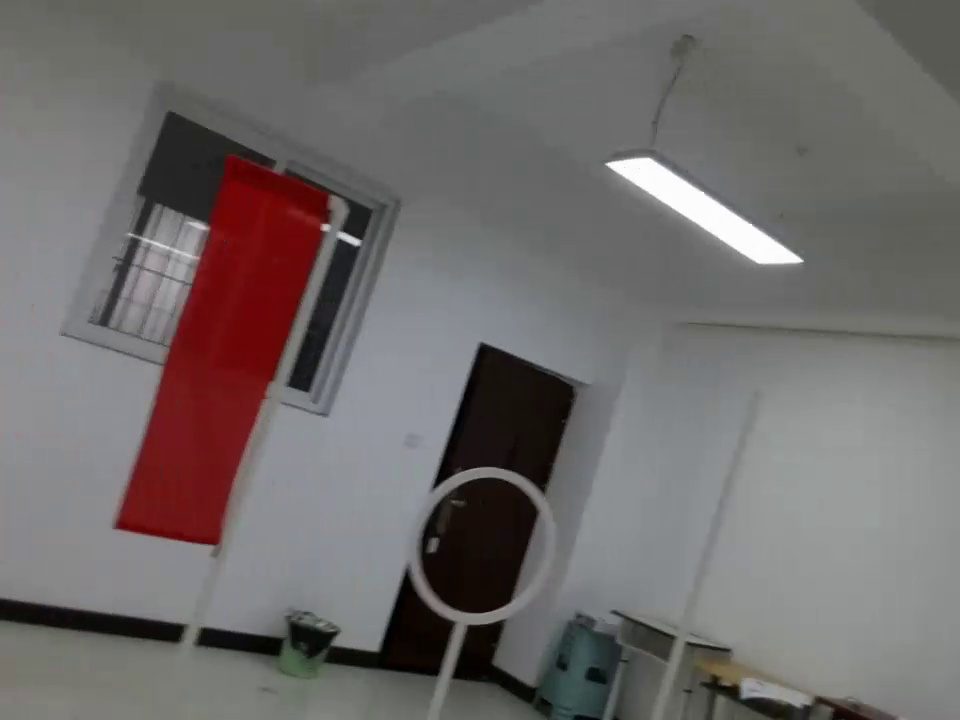qi: (82, 153, 355, 585)
quan: (391, 464, 563, 652)
